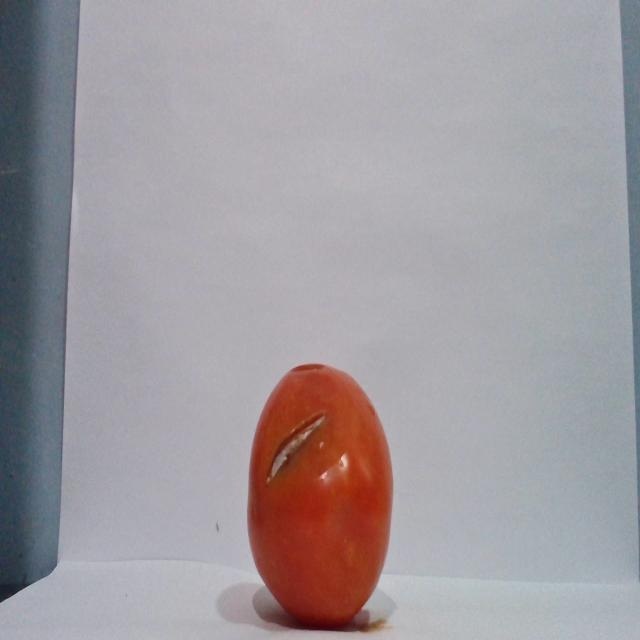Red: (245, 361, 394, 627)
